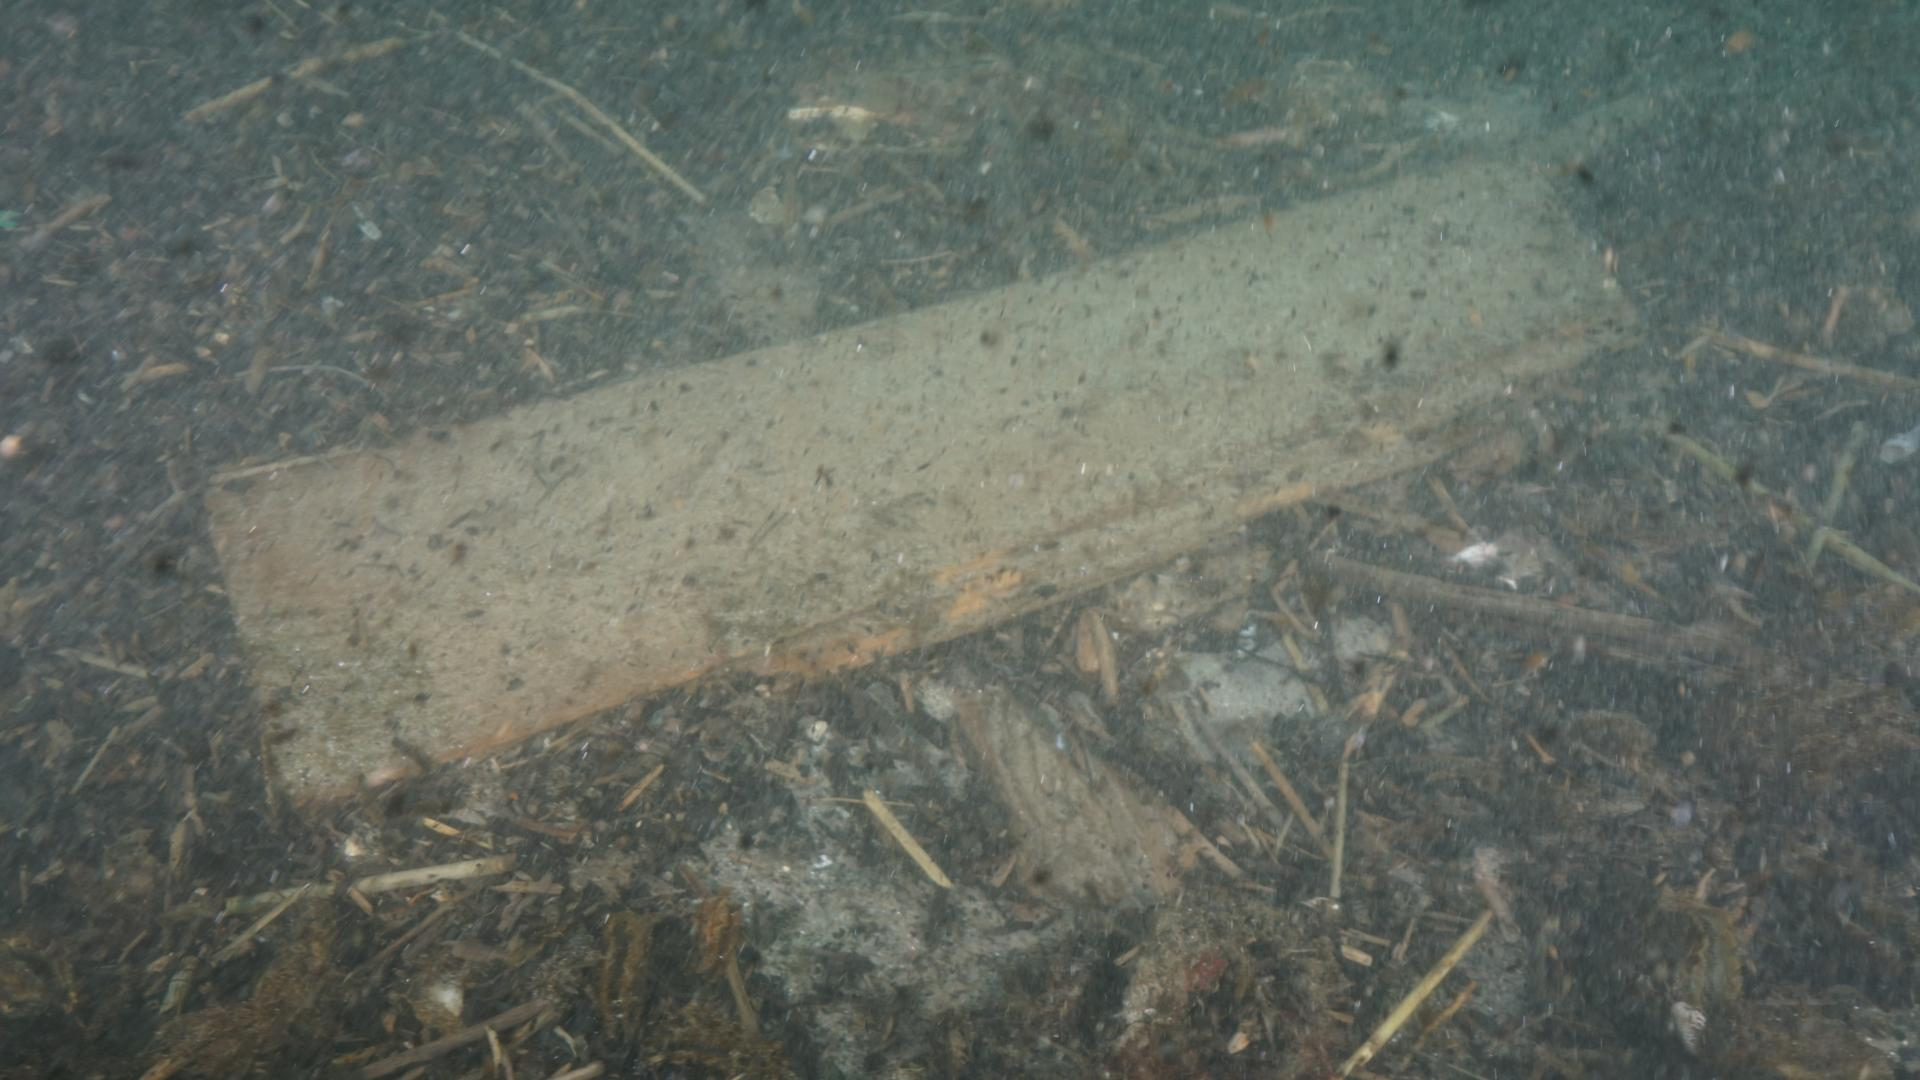wood: (198, 146, 1654, 831)
